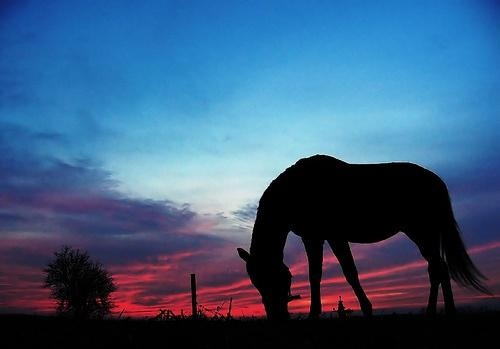horse: (231, 148, 495, 326)
